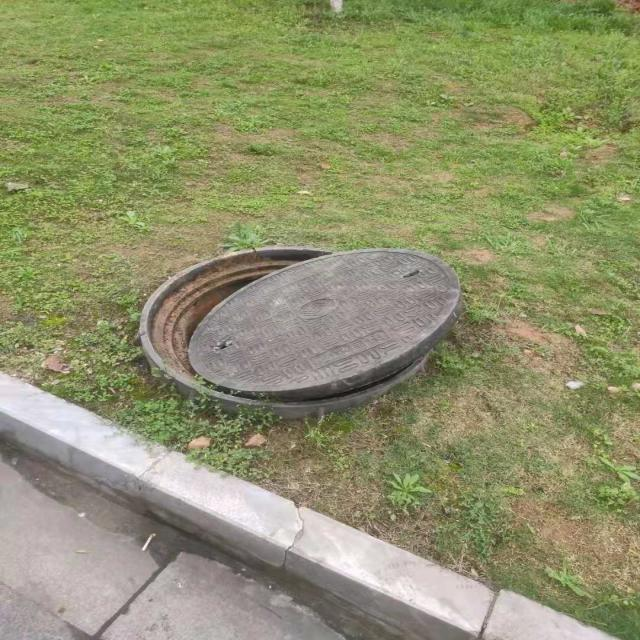Faulty: (135, 244, 462, 416)
